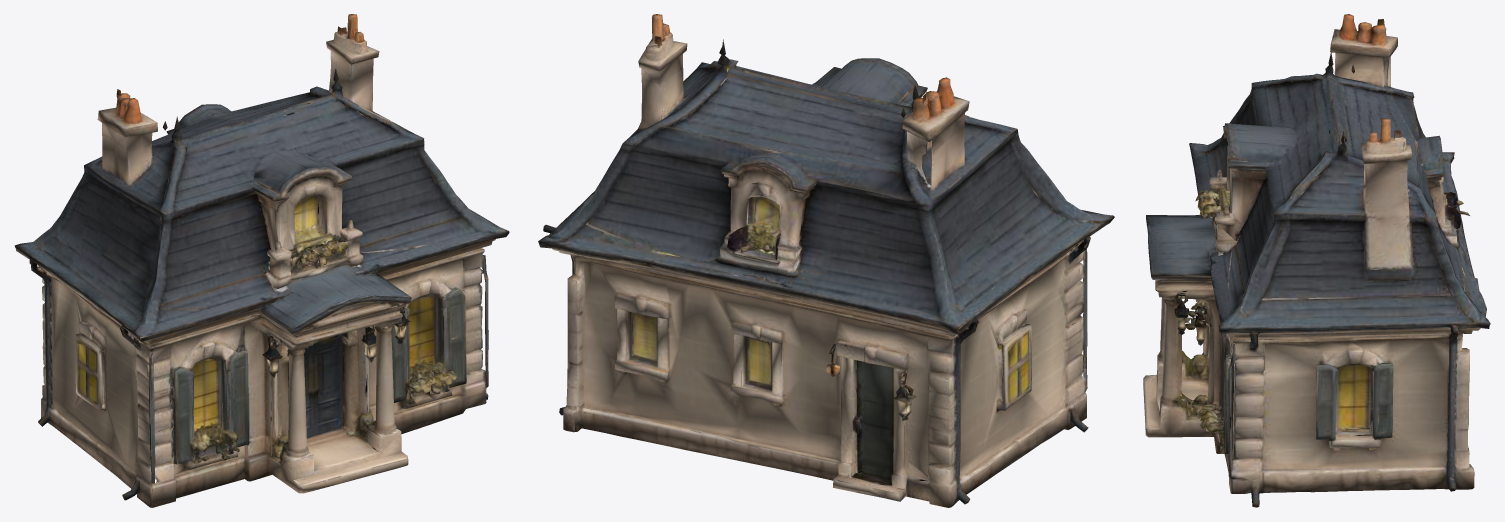
The model's file is hotel_1.glb.
3 views of the same model, side by side, from view 1: azimuth 30°, elevation 25°; view 2: azimuth 150°, elevation 25°; view 3: azimuth 270°, elevation 25° (orthographic). The views are drawn at different scales.
Visible parts, largest first — view 1: classic__hotel_1__neural_lod; view 2: classic__hotel_1__neural_lod; view 3: classic__hotel_1__neural_lod.
Part boxes in pixels (<box>): classic__hotel_1__neural_lod: <box>14,14,509,507</box>; classic__hotel_1__neural_lod: <box>538,14,1114,507</box>; classic__hotel_1__neural_lod: <box>1143,14,1490,507</box>.
Bounding box in the file's own units: 1 × 0.882 × 0.7803.
Materials: 1 (1 with a texture image).
